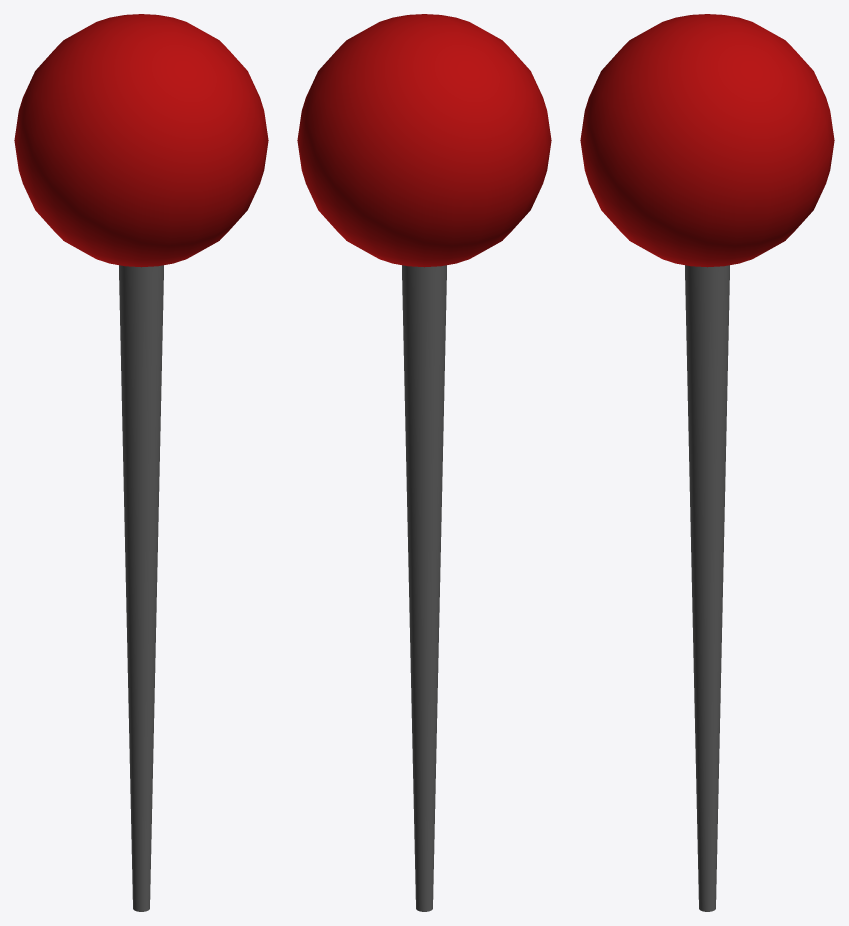
File: marker.fbx
3 renders of one model, left to right at view 1: azimuth 30°, elevation 25°; view 2: azimuth 150°, elevation 25°; view 3: azimuth 270°, elevation 25°, orthographic.
Parts seen in each view (by area): view 1: Sphere, Cone; view 2: Sphere, Cone; view 3: Sphere, Cone.
Part boxes in pixels (x1=…): Sphere: x1=14, y1=14, x2=268, y2=267; Cone: x1=119, y1=265, x2=163, y2=911; Sphere: x1=297, y1=14, x2=551, y2=267; Cone: x1=402, y1=265, x2=446, y2=911; Sphere: x1=580, y1=14, x2=834, y2=267; Cone: x1=685, y1=265, x2=729, y2=911.
Size of the model in its own units: 3 by 11.5 by 3.
